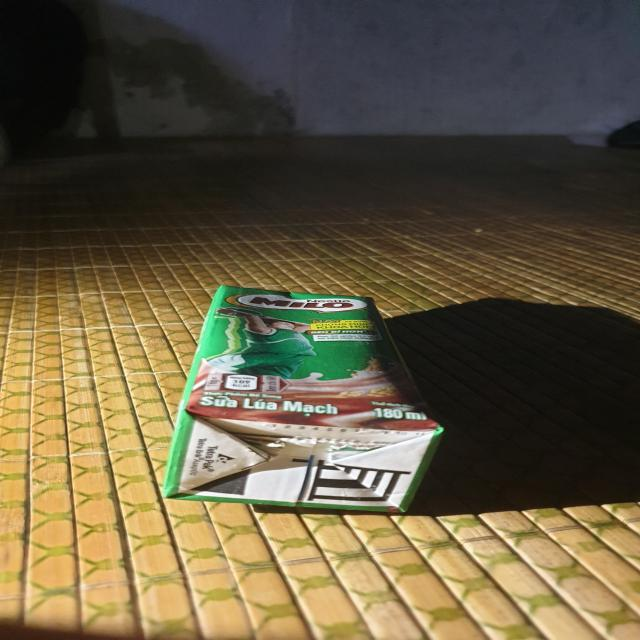Milo: (158, 287, 451, 522)
